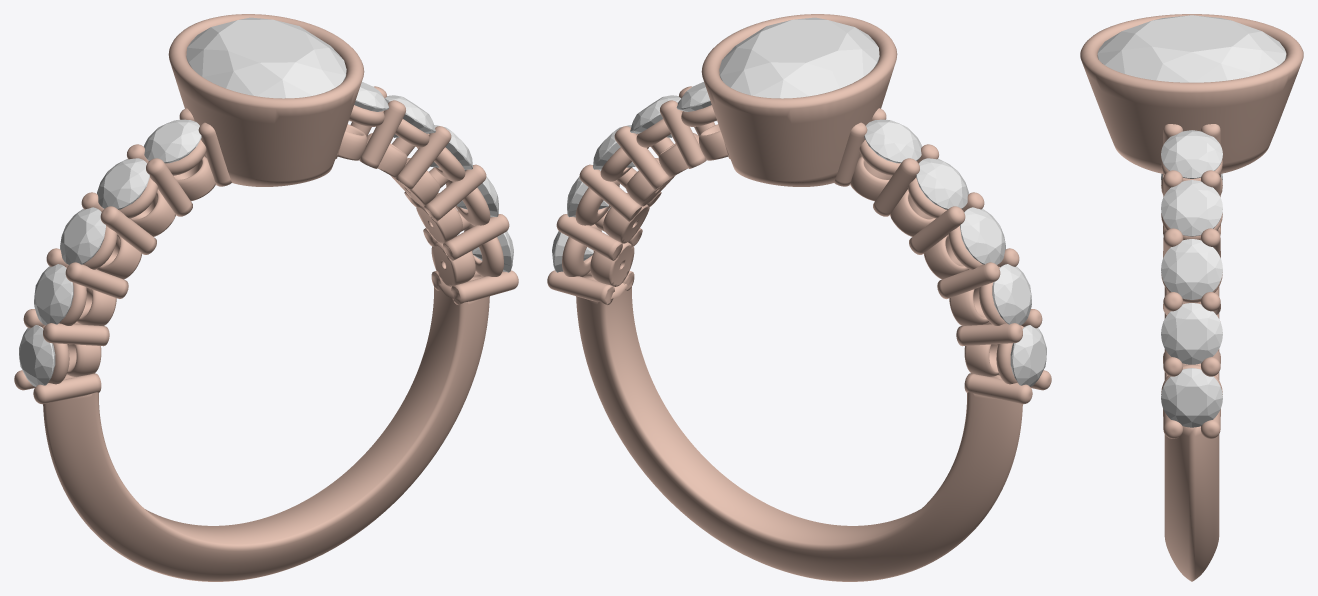
File: diamond-oval-rosegold-bezelset-knifeedge-11stone.glb
3 views of the same model, side by side, from view 1: azimuth 30°, elevation 25°; view 2: azimuth 150°, elevation 25°; view 3: azimuth 270°, elevation 25° (orthographic).
Parts seen in each view (by area): view 1: metal, stone.002, side.022, side.023, side.021, side.024, side.020, side.028, side.029; view 2: metal, stone.002, side.022, side.023, side.021, side.024, side.020, side.028, side.029; view 3: metal, stone.002, side.026, side.027, side.025, side.028, side.029.
Part boxes in pixels (x1,y1,x2,y2): metal: (14,14,518,581); stone.002: (186,17,346,98); side.022: (60,207,105,264); side.023: (97,158,149,209); side.021: (34,264,73,325); side.024: (143,119,201,163); side.020: (19,325,55,386); side.028: (385,95,435,137); side.029: (354,82,389,111); metal: (547,14,1051,581); stone.002: (719,17,879,98); side.022: (960,207,1005,264); side.023: (916,158,968,209); side.021: (992,264,1031,325); side.024: (864,119,922,163); side.020: (1010,325,1046,386); side.028: (630,95,680,137); side.029: (676,82,711,111); metal: (1080,14,1303,581); stone.002: (1097,15,1286,82); side.026: (1161,303,1222,364); side.027: (1161,239,1222,299); side.025: (1161,368,1222,427); side.028: (1161,180,1222,236); side.029: (1161,130,1222,178).
Bounding box in the file's own units: 22.05 × 23.4 × 9.04.
